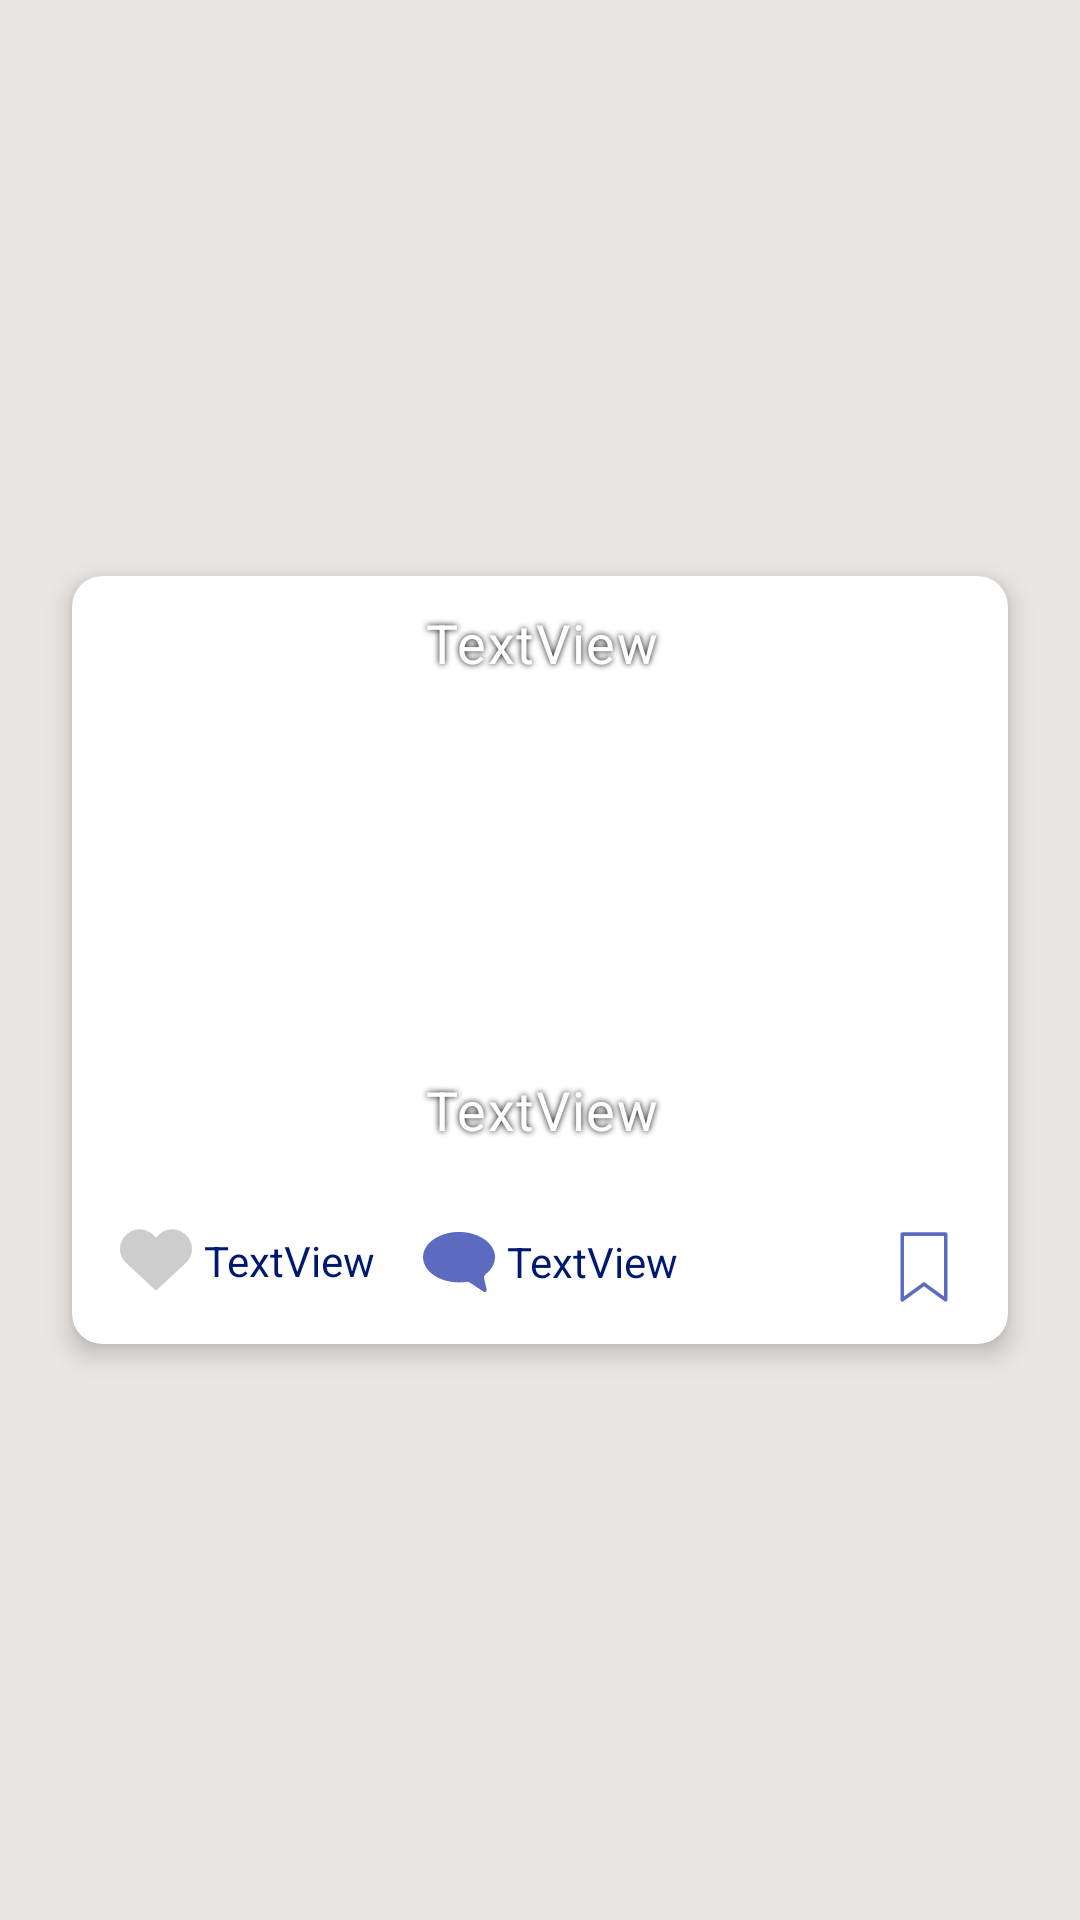

Icons on this 1080*1920 Android screen, each with the point to tap as [x,y]:
comment: [459,1262]
greyheart: [156,1259]
saveoutline: [924,1267]
